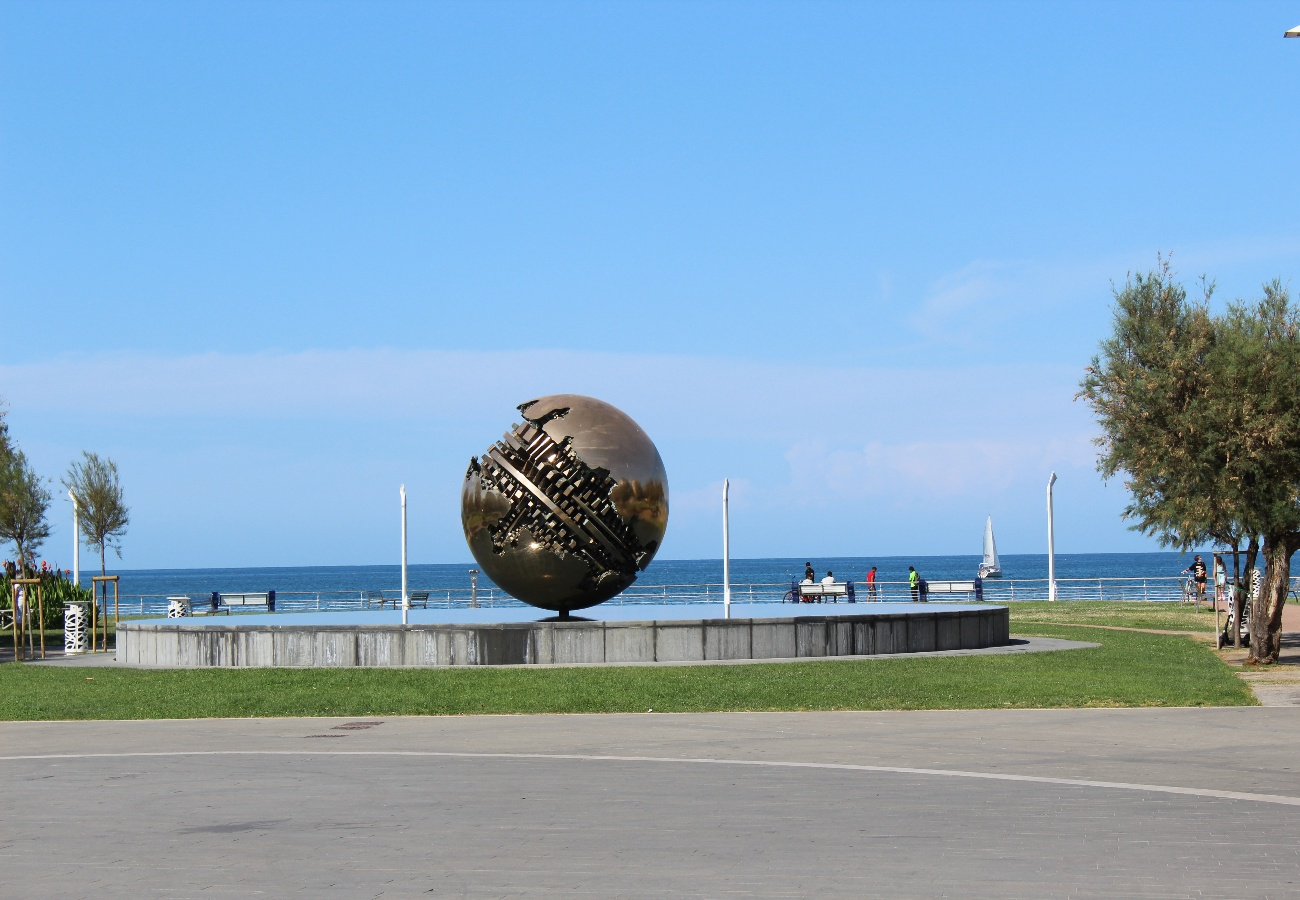Palla di Pomodoro: (462, 394, 672, 609)
